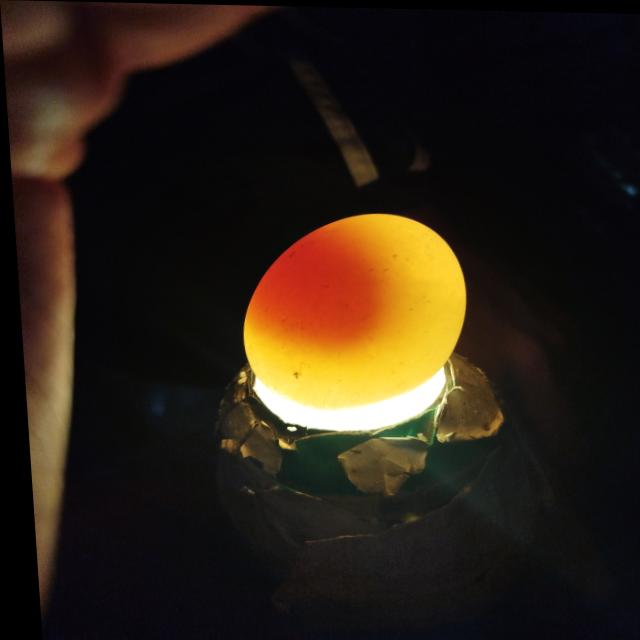Gema Quebrada: (251, 228, 375, 341)
